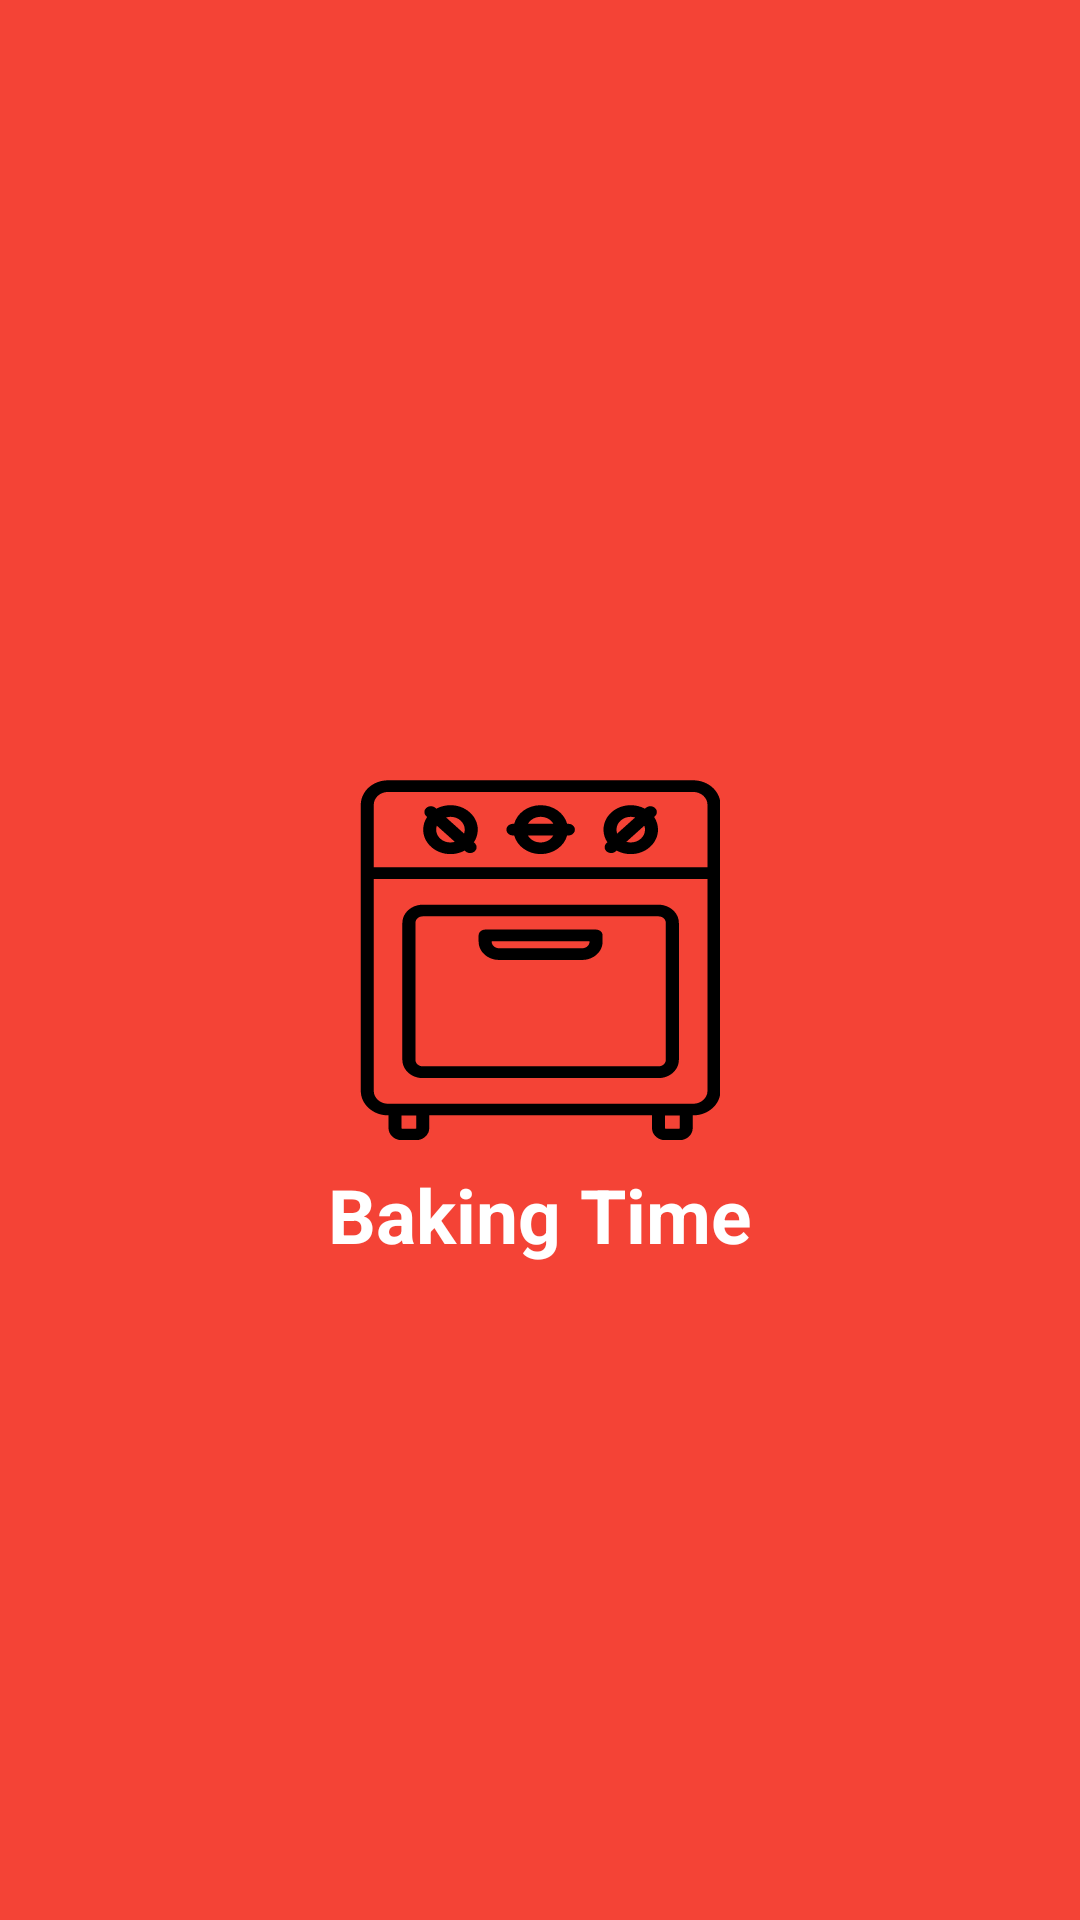

Point at icon controls on the screen. Image size 1080w x 1920h, points as point (x, y).
oven: point (540, 960)
